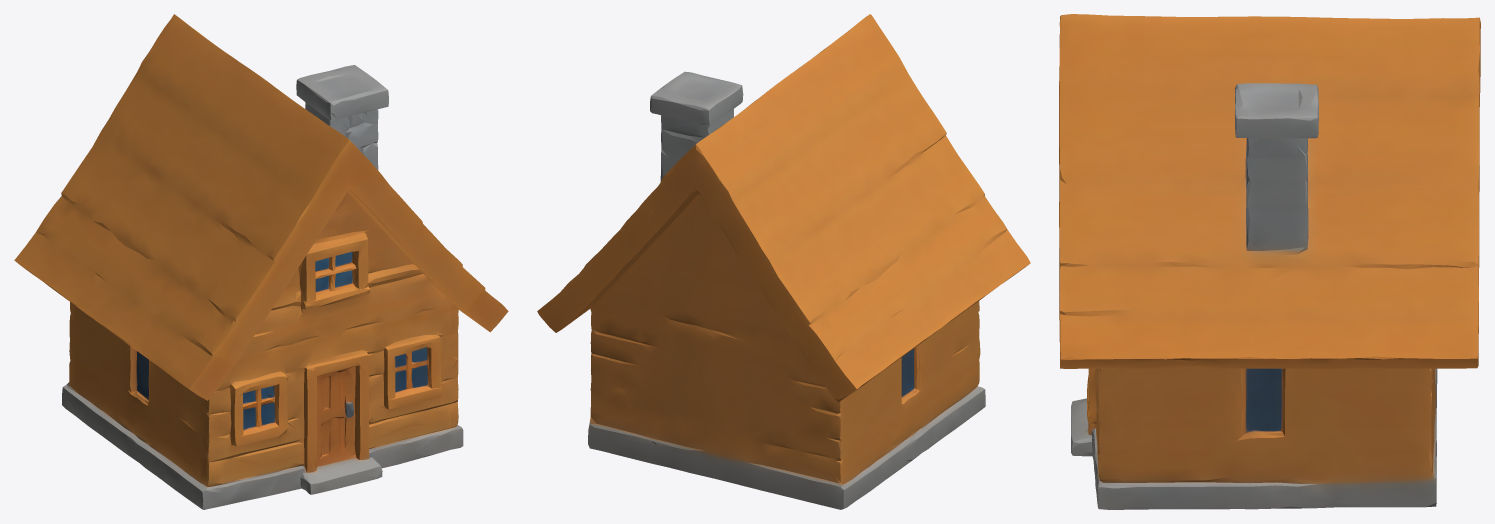
3 renders of one model, left to right at view 1: azimuth 30°, elevation 25°; view 2: azimuth 150°, elevation 25°; view 3: azimuth 270°, elevation 25°, orthographic. The views are drawn at different scales.
Parts seen in each view (by area): view 1: model; view 2: model; view 3: model.
Boxes of the visible parts, <box> form: model: <box>14,14,508,509</box>; model: <box>537,14,1030,509</box>; model: <box>1059,14,1480,509</box>.
Size of the model in its own units: 180 by 189 by 172.
1 material, 1 textured.
